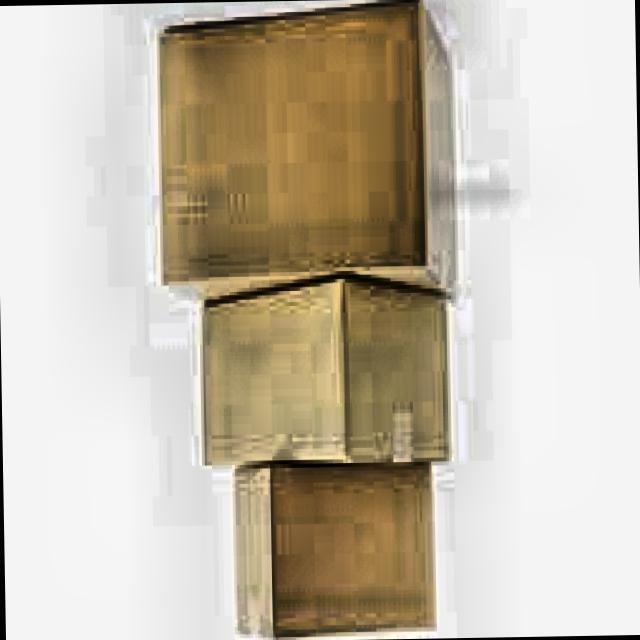cardboard: (153, 1, 458, 308), (196, 276, 451, 472), (231, 461, 436, 640)
